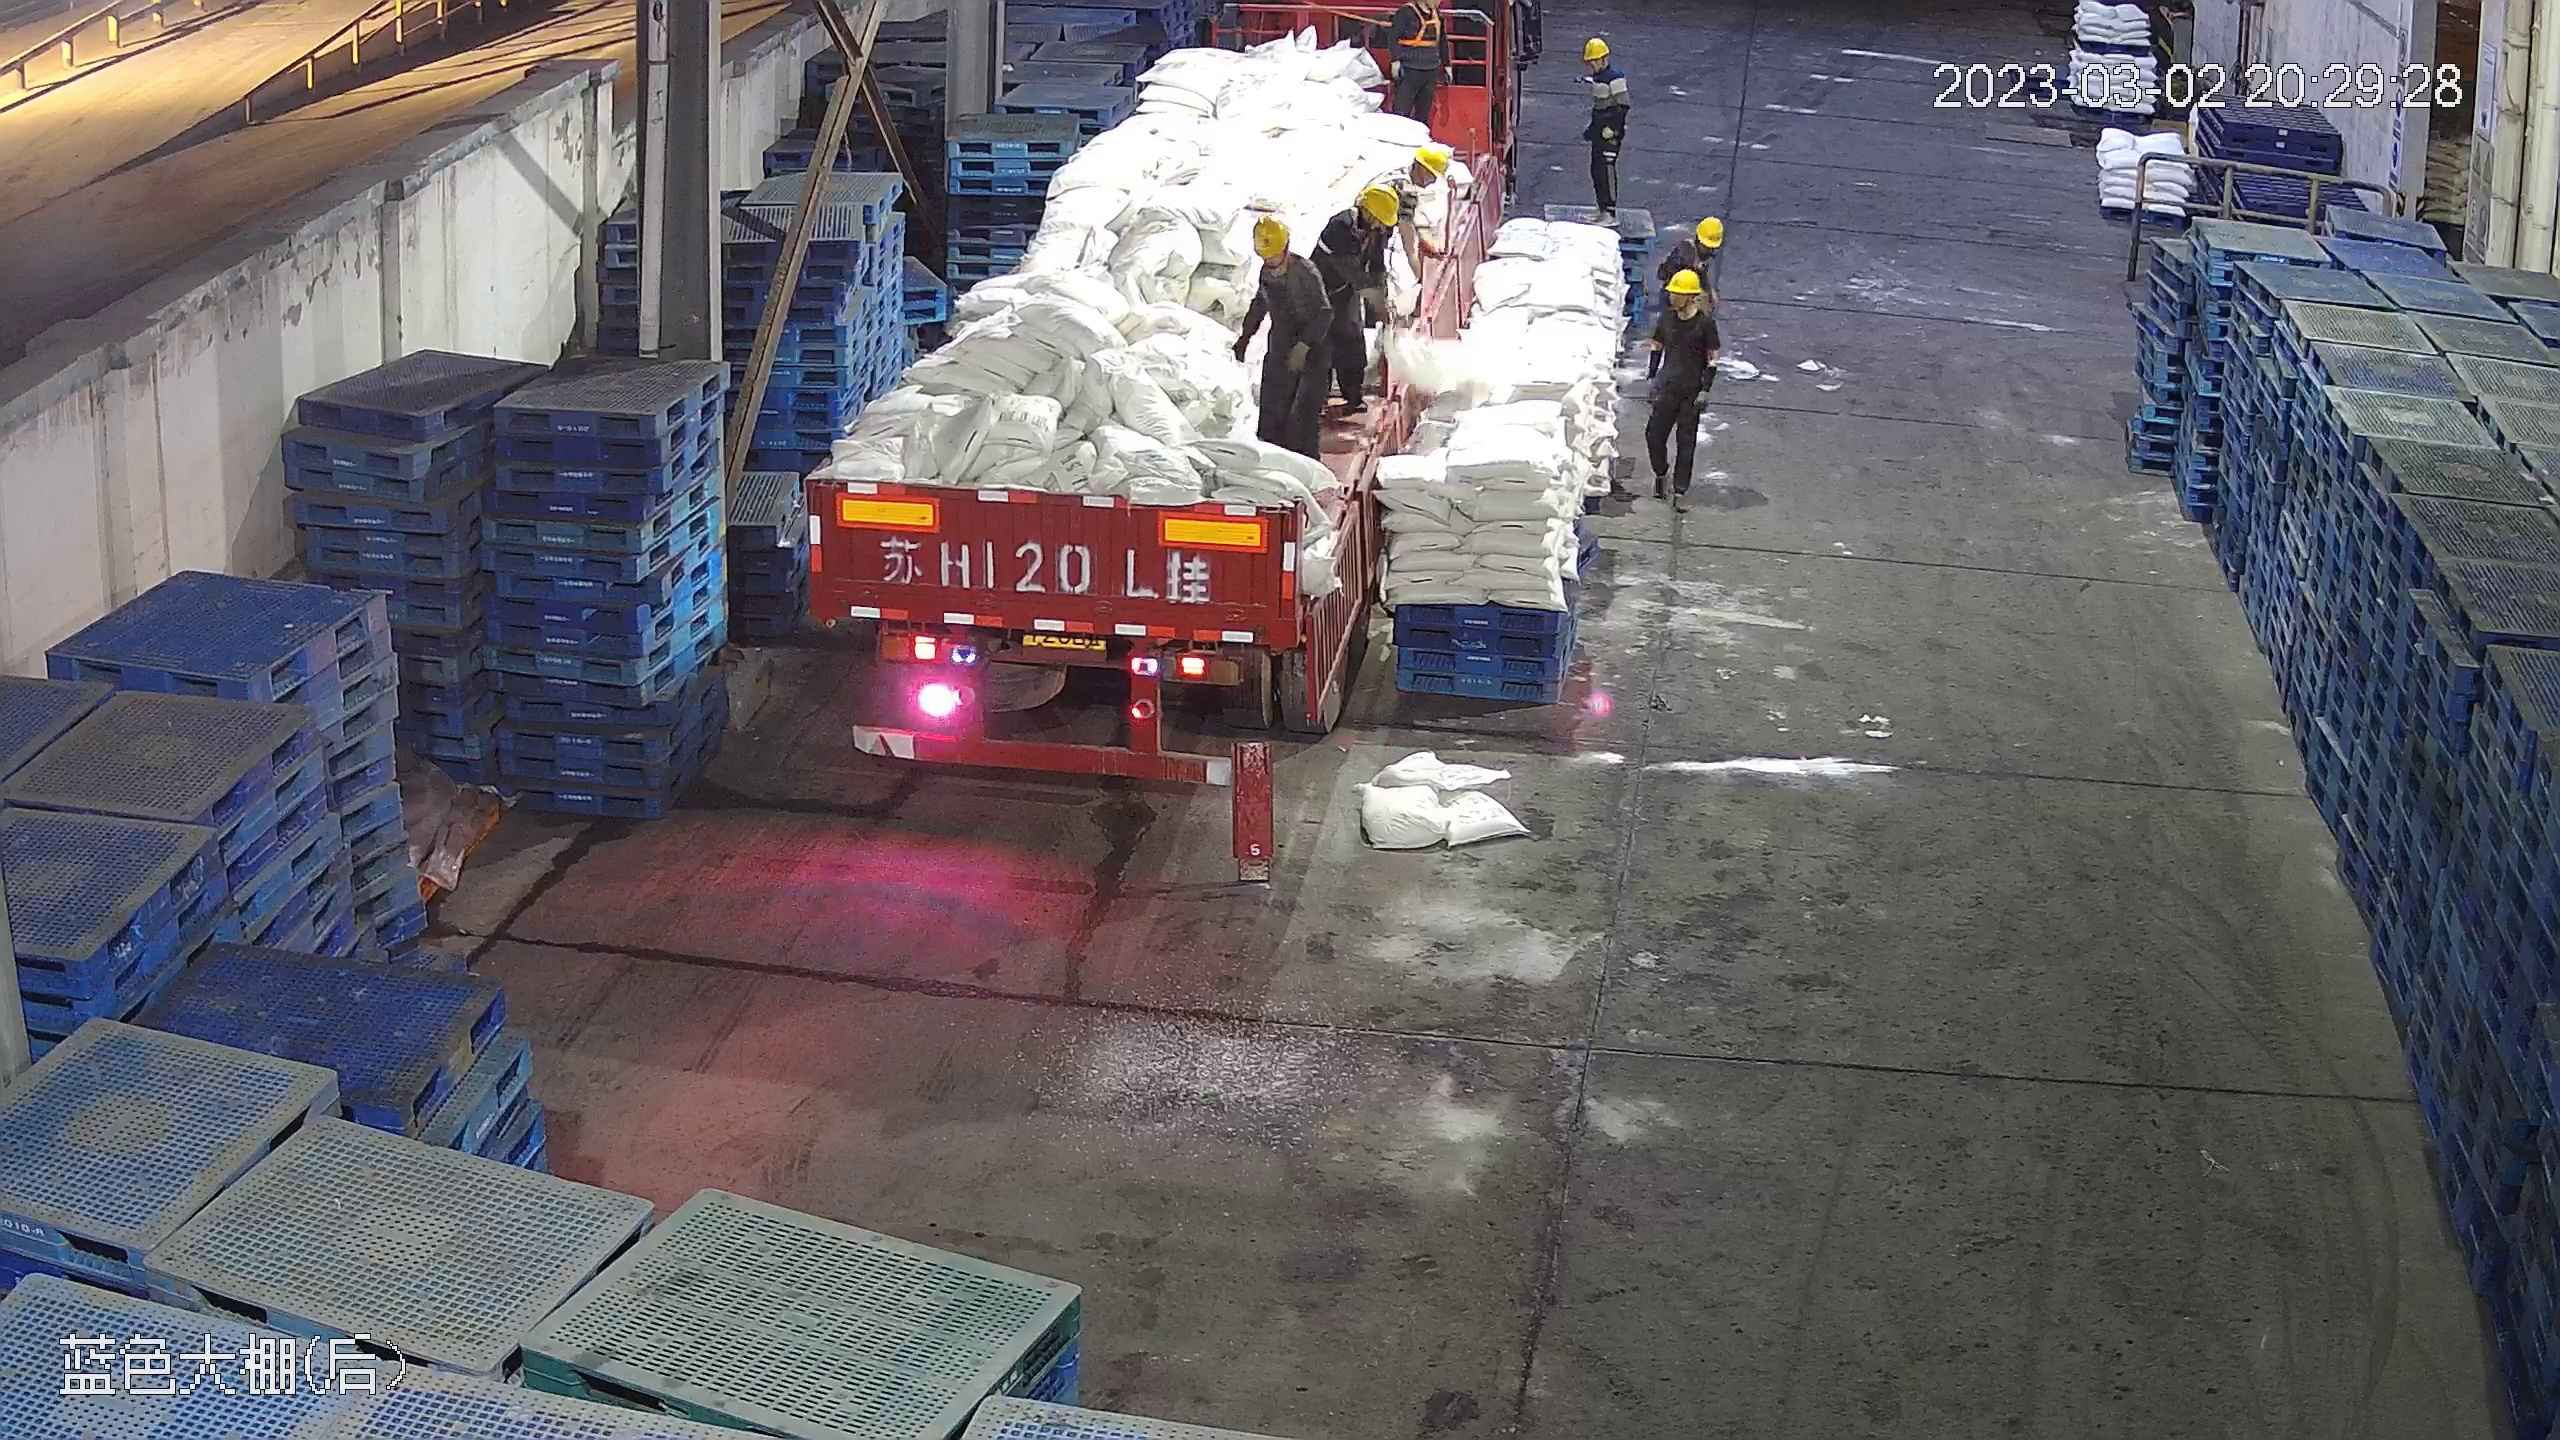belt: (1340, 202, 1390, 260), (1394, 2, 1445, 50), (1685, 236, 1717, 270), (1311, 236, 1337, 260), (1372, 168, 1411, 182)
head: (1318, 178, 1410, 256), (1246, 212, 1326, 304), (1650, 264, 1720, 345), (1372, 153, 1457, 203), (1677, 216, 1728, 273), (1577, 38, 1626, 94)
helmet: (1402, 142, 1445, 193), (1250, 213, 1292, 256), (1359, 182, 1399, 228), (1683, 217, 1725, 257), (1416, 143, 1450, 178), (1666, 266, 1705, 296), (1582, 37, 1610, 61)
people: (1304, 179, 1410, 426), (1234, 210, 1333, 454), (1635, 265, 1718, 505), (1573, 37, 1629, 227)
truck: (792, 9, 1488, 776)
